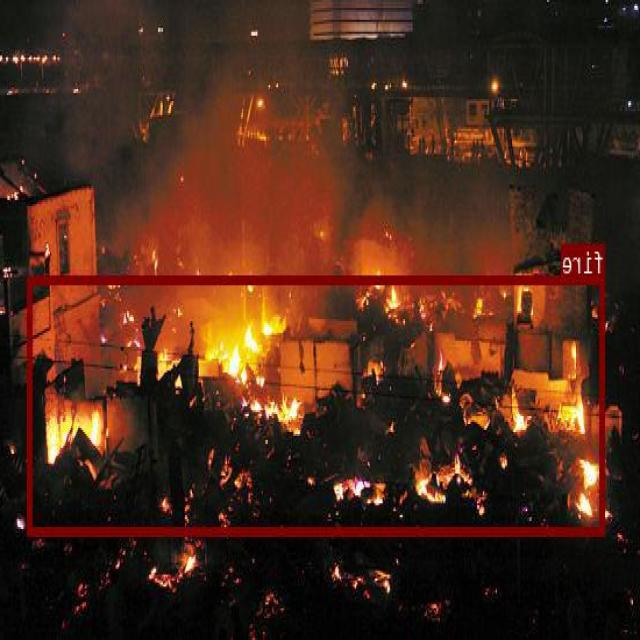fire: (29, 276, 605, 534)
